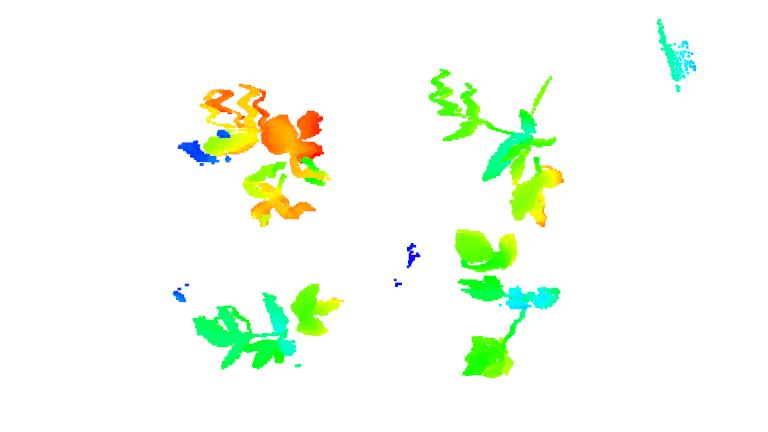mungbean: (428, 62, 567, 225), (193, 83, 335, 228), (445, 226, 563, 381), (184, 281, 341, 374)
